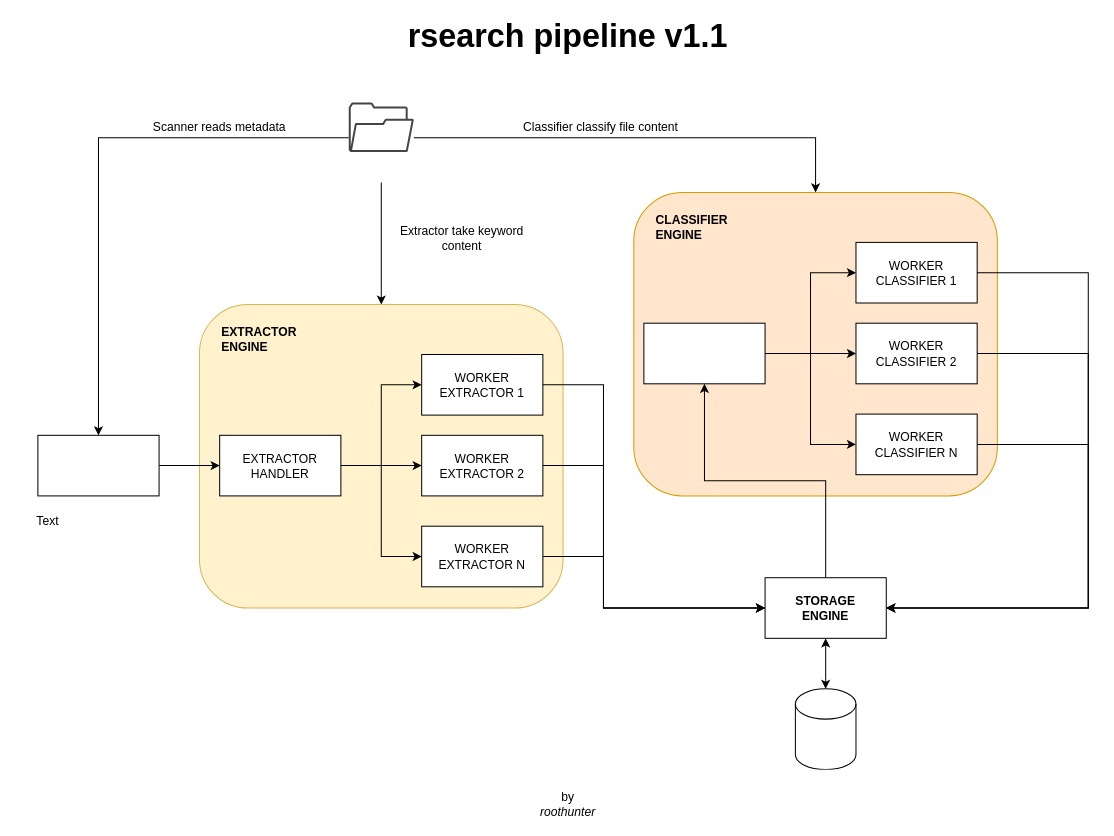
The diagram is 1114 pixels wide and 836 high, and some of its shapes have lost their labels. Each missing label, with the centre of its shape:
"CLASSIFIER HANDLER" goes at pixel 704 353.
"Database" goes at pixel 825 784.
"File System" goes at pixel 380 167.
"SCANNER ENGINE" goes at pixel 98 465.
